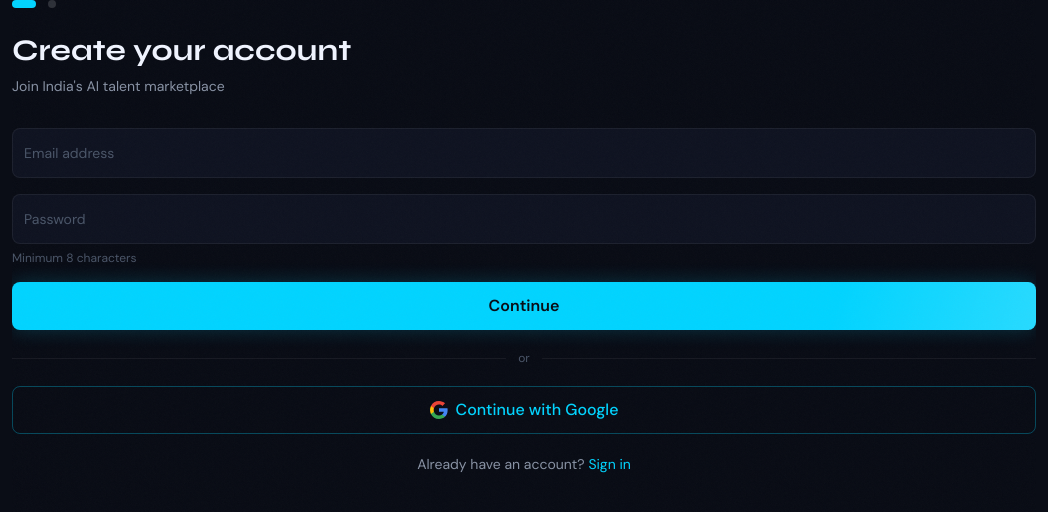
it: Signup — Role Selector › shows validation errors when submitting empty credentials
The image size is (1048, 512).
Click the button "Continue" at (524, 306), box [12,282,1036,330]
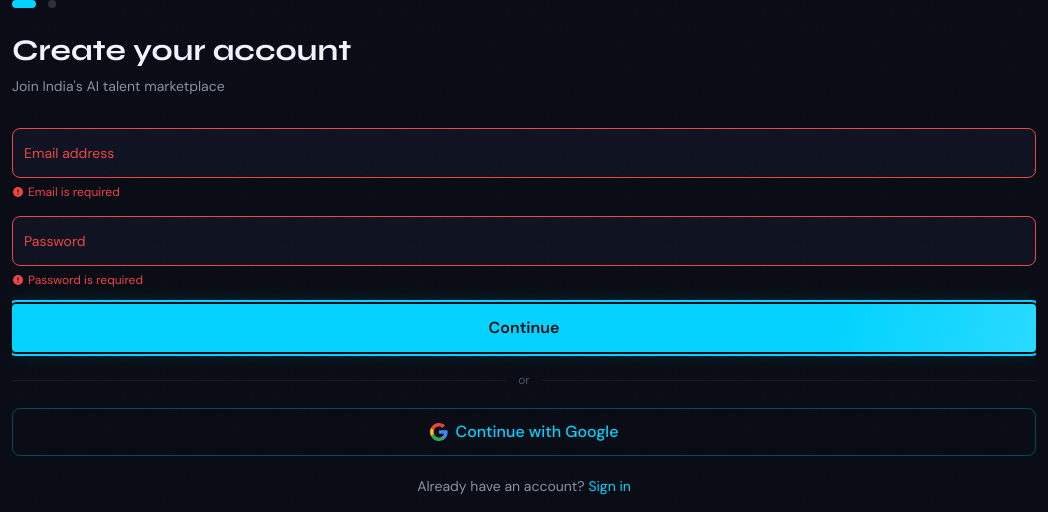
expect the text "Email is required" is shown: met, box [12,184,120,200]
expect the text "Password is required" is shown: met, box [12,272,143,288]
